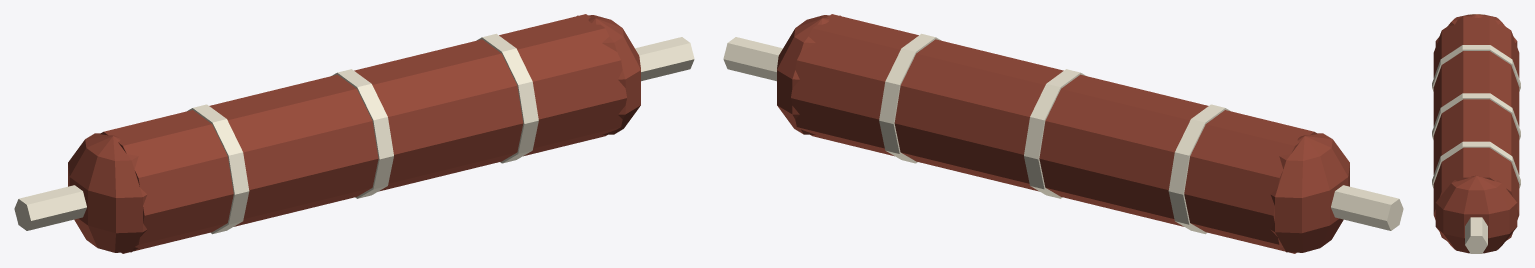
The model's file is sausage.glb.
3 views of the same model, side by side, from view 1: azimuth 30°, elevation 25°; view 2: azimuth 150°, elevation 25°; view 3: azimuth 270°, elevation 25° (orthographic). The views are drawn at different scales.
Parts seen in each view (by area): view 1: sausage; view 2: sausage; view 3: sausage.
Boxes of the visible parts, left/top/right/bottom form: sausage: left=14, top=14, right=694, bottom=253; sausage: left=723, top=14, right=1403, bottom=253; sausage: left=1432, top=14, right=1520, bottom=253.
Size of the model in its own units: 0.55 by 0.09 by 0.093.
